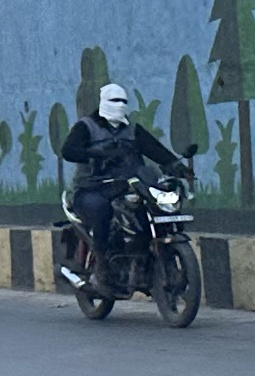BikeWithRider: (46, 76, 208, 332)
NoHelmet: (93, 80, 136, 126)
